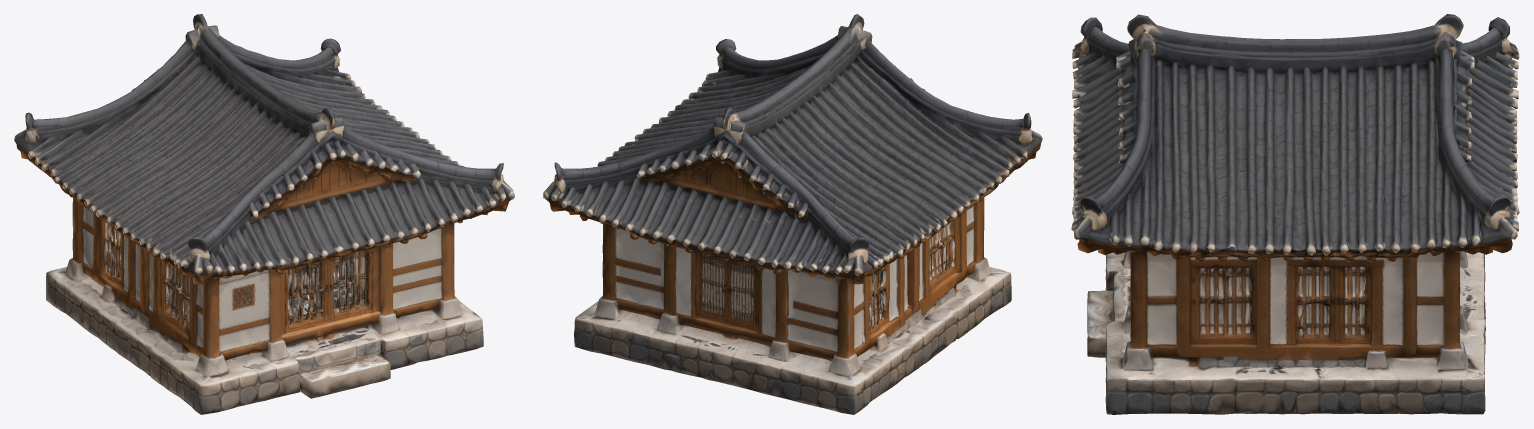
File: house_giwa_high.glb
3 views of the same model, side by side, from view 1: azimuth 30°, elevation 25°; view 2: azimuth 150°, elevation 25°; view 3: azimuth 270°, elevation 25° (orthographic). The views are drawn at different scales.
Visible parts, largest first — view 1: texture_mapping; view 2: texture_mapping; view 3: texture_mapping.
Part boxes in pixels (x1,y1,x2,y2): texture_mapping: [14, 14, 514, 414]; texture_mapping: [543, 14, 1042, 414]; texture_mapping: [1071, 14, 1519, 414].
Bounding box in the file's own units: 1 × 0.7874 × 1.
Materials: 1 (1 with a texture image).
